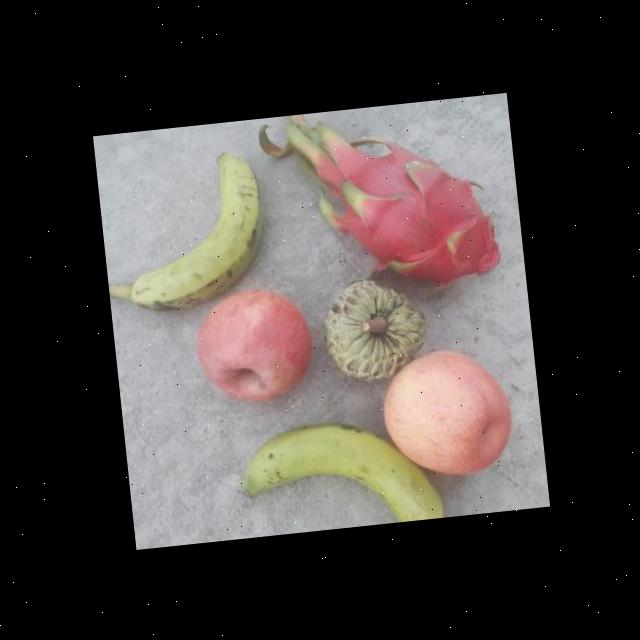Sakya fruit: (315, 268, 429, 390)
apple: (377, 343, 519, 480), (184, 281, 318, 410)
banana: (232, 406, 446, 538), (112, 142, 272, 312)
pitaya: (337, 137, 505, 291)
